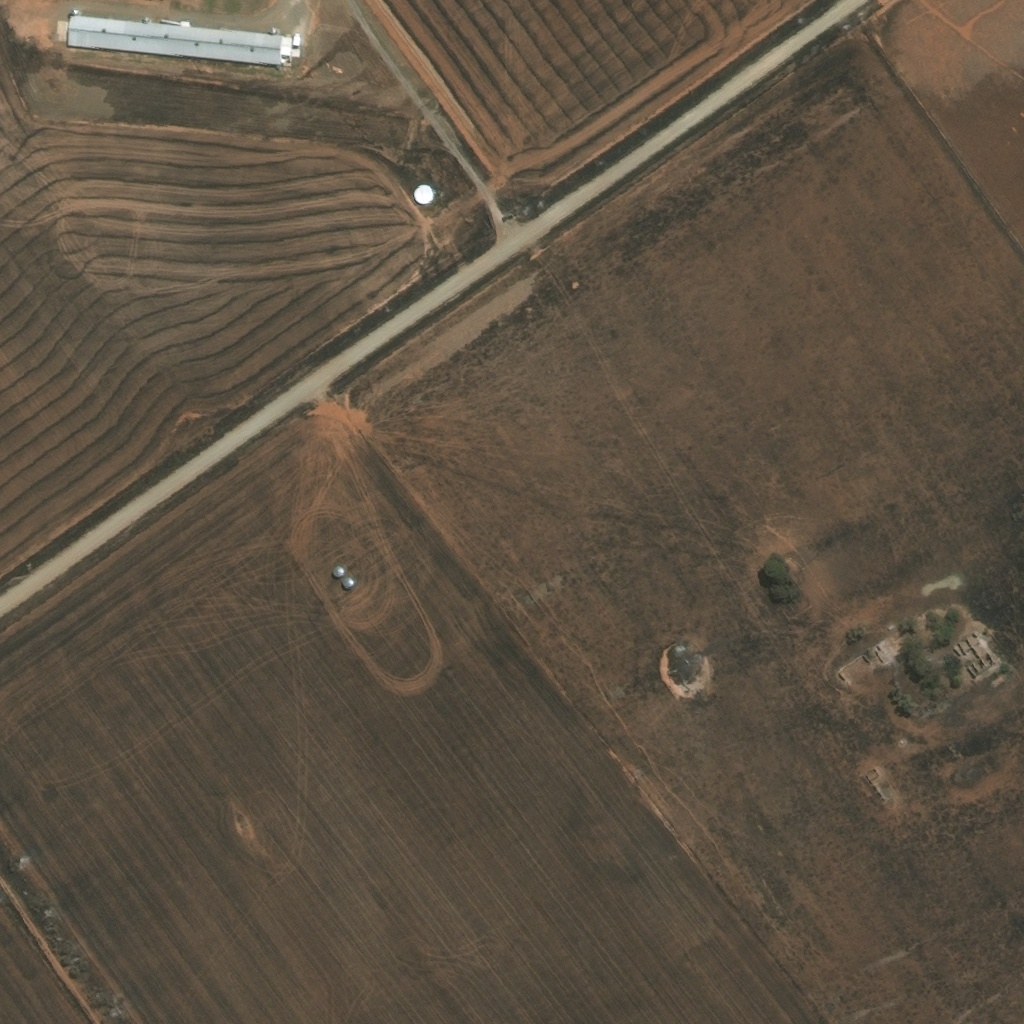0 no-damage: (65, 15, 291, 68), (413, 185, 433, 205), (268, 26, 277, 35), (69, 8, 78, 16), (180, 21, 188, 27), (142, 17, 148, 22)
4 un-classified: (341, 549, 354, 561), (349, 563, 360, 574)
